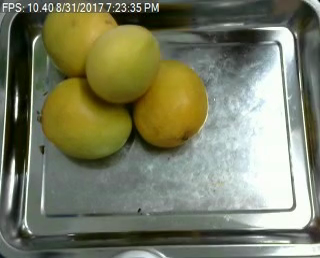Mango: (43, 76, 132, 158), (130, 61, 208, 147), (84, 26, 160, 105), (43, 1, 118, 77)
